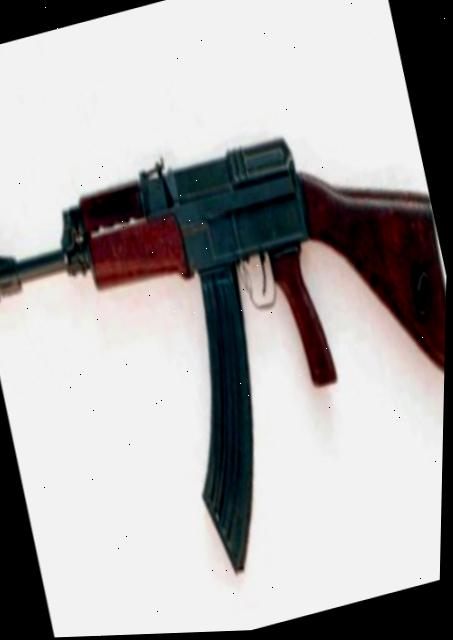rifle: (0, 72, 452, 619)
